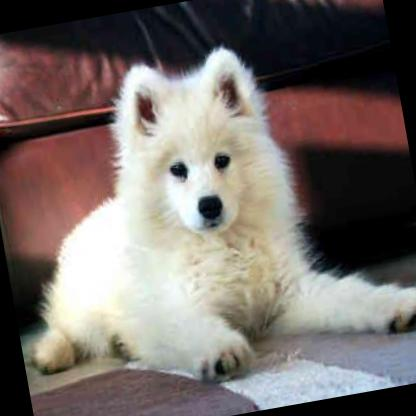Samoyed: (0, 14, 416, 413)
